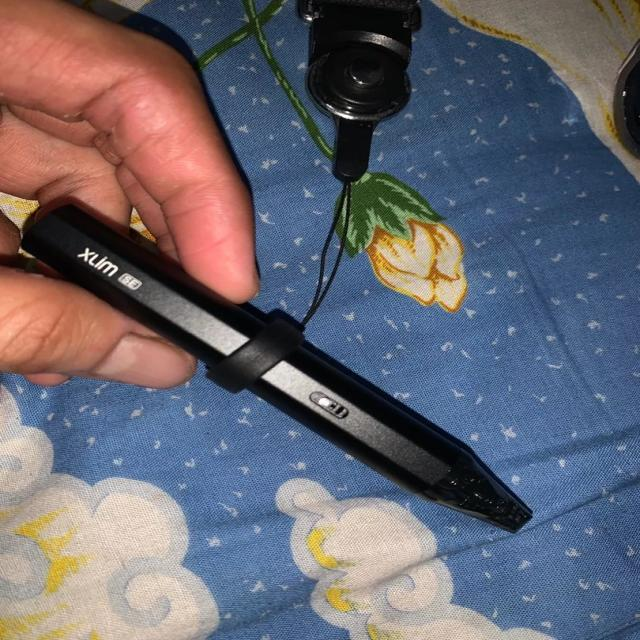Hazard: (18, 205, 534, 534)
